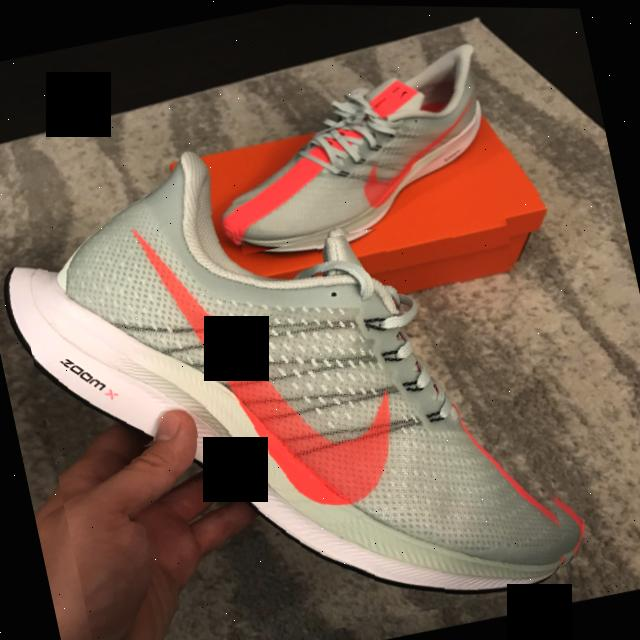shoe: (7, 135, 585, 640), (208, 37, 546, 258)
